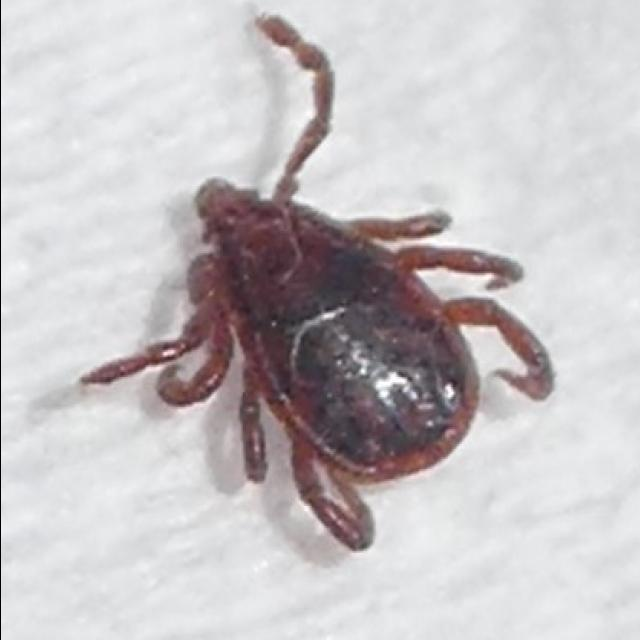Rhipicephalus Sanguineus-M: (81, 17, 557, 555)
